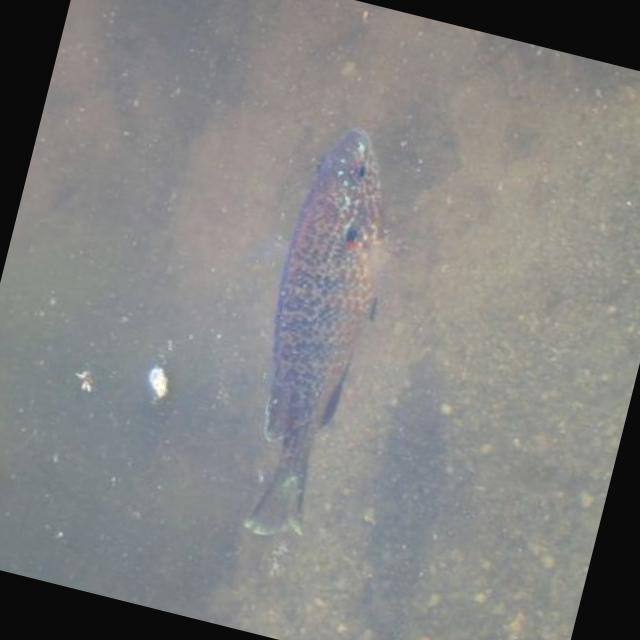Gunes Levregi: (213, 88, 440, 558)
